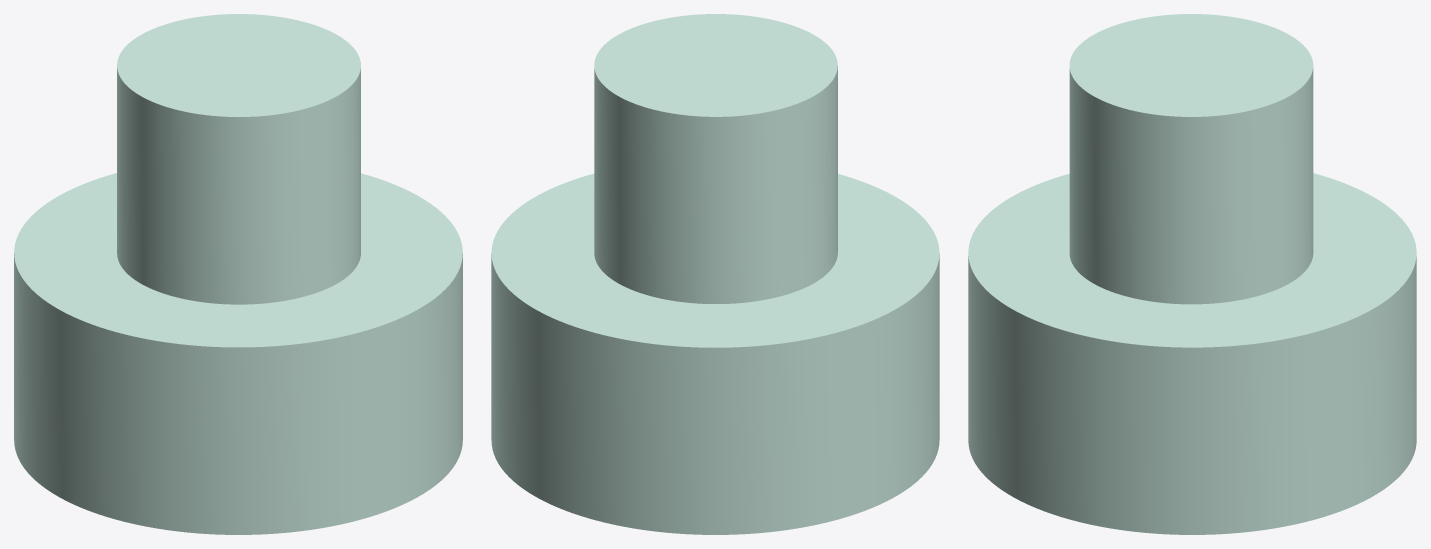
The picture shows the model from 3 angles, left to right: view 1: azimuth 30°, elevation 25°; view 2: azimuth 150°, elevation 25°; view 3: azimuth 270°, elevation 25°; orthographic projection.
Parts seen in each view (by area): view 1: Renderer Node; view 2: Renderer Node; view 3: Renderer Node.
Part boxes in pixels (x1,y1,x2,y2): Renderer Node: [14, 14, 462, 534]; Renderer Node: [491, 14, 939, 534]; Renderer Node: [968, 14, 1416, 534].
Bounding box in the file's own units: 0.8129 × 0.75 × 0.8132.
